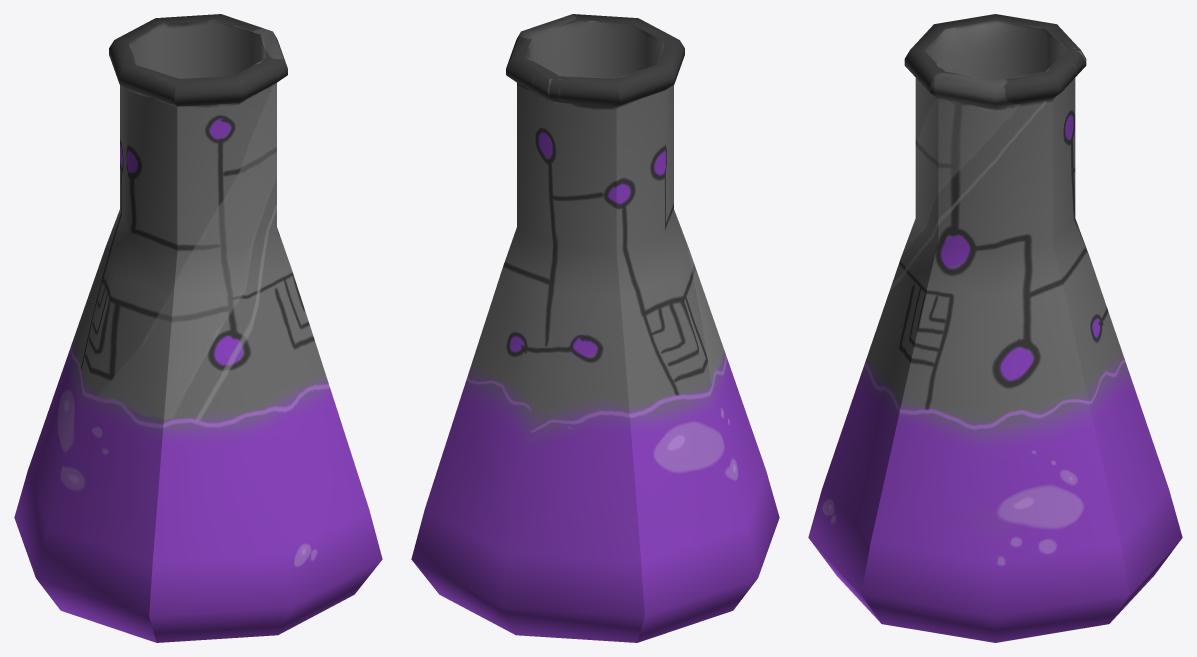
Rendered from Beaker cube piece.fbx.
3 views of the same model, side by side, from view 1: azimuth 30°, elevation 25°; view 2: azimuth 150°, elevation 25°; view 3: azimuth 270°, elevation 25° (orthographic).
Parts seen in each view (by area): view 1: beaker2; view 2: beaker2; view 3: beaker2.
Boxes of the visible parts, <box> form: beaker2: <box>14,14,382,642</box>; beaker2: <box>411,14,779,642</box>; beaker2: <box>808,14,1182,642</box>.
Bounding box in the file's own units: 4.25 × 6.95 × 4.25.
